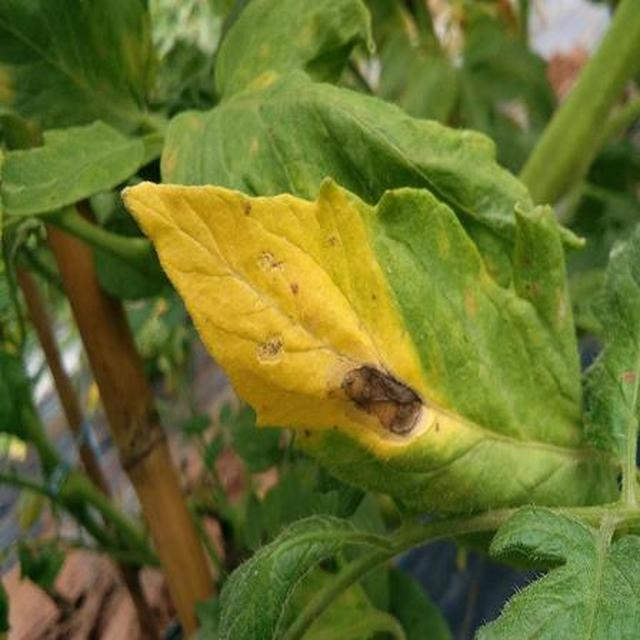Early Blight Leaf: (181, 251, 640, 640)
